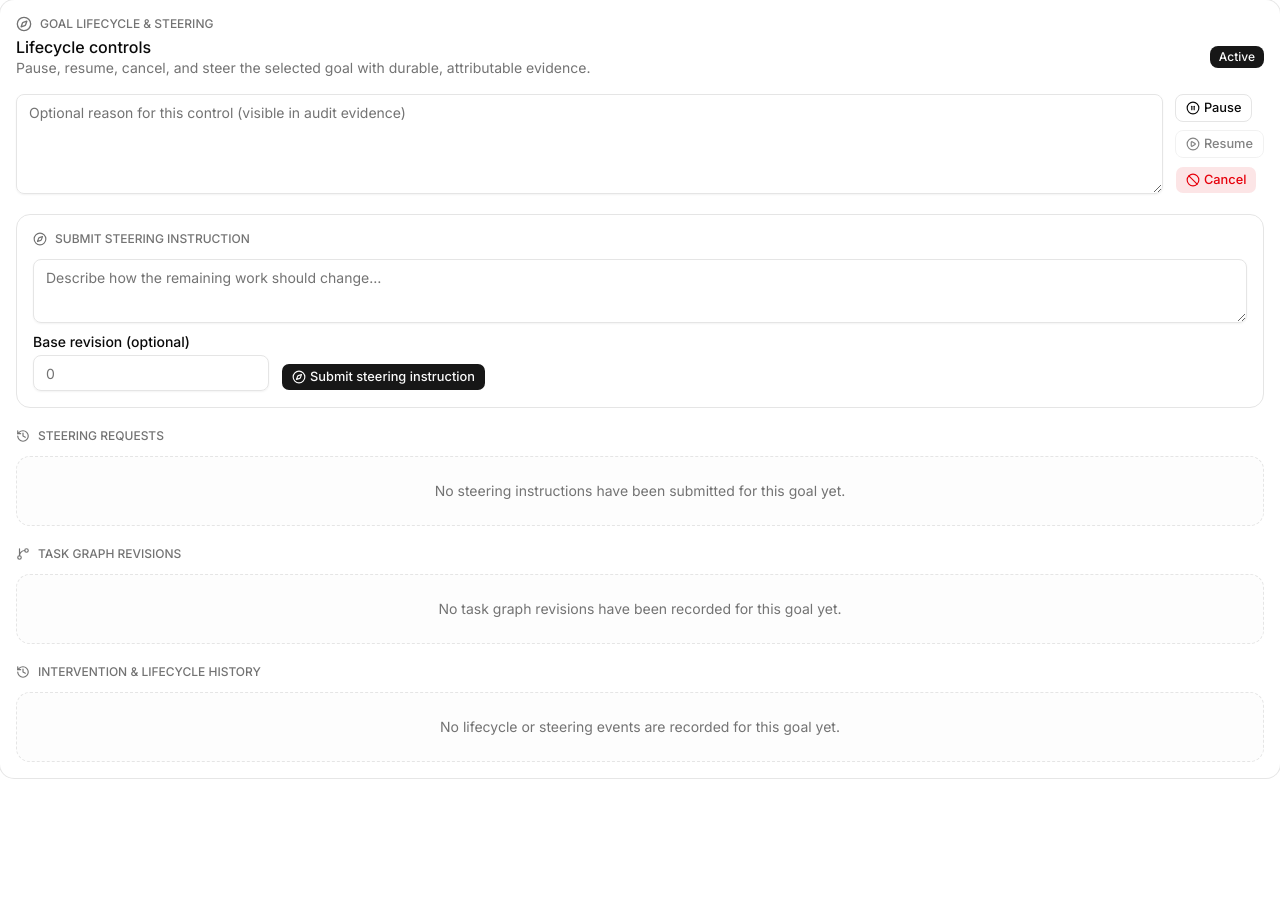
Test case: GoalLifecyclePanel › submits a steering instruction and lists it as requested
In the text box with placeholder "Describe how the remaining work should change…": (640, 291) x1=33 y1=259 x2=1247 y2=323, type "Add a review step before publishing"
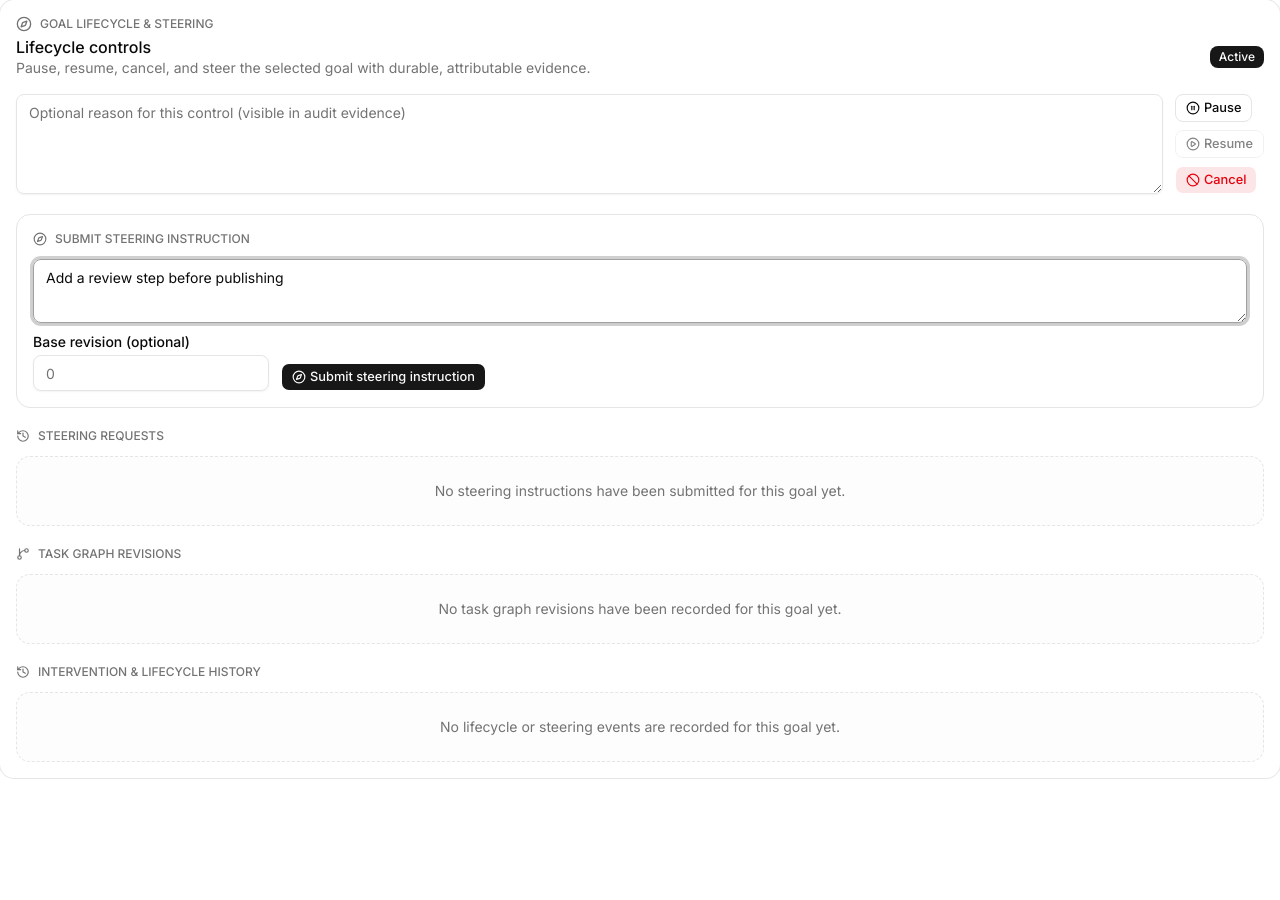
Click the button "Submit steering instruction": (383, 377) x1=281 y1=363 x2=486 y2=391
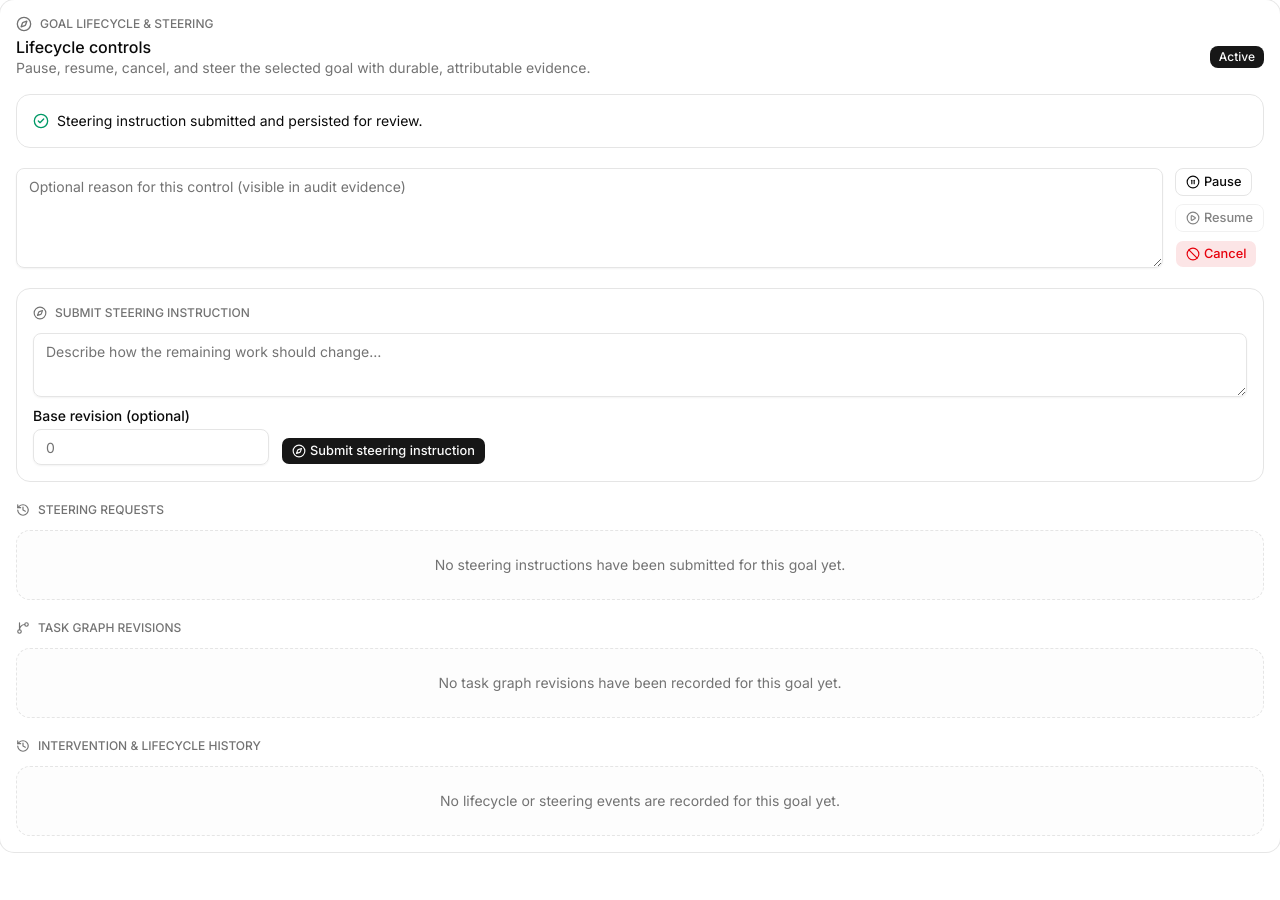
Expected: the text "Steering instruction submitted and persisted for review." is shown, x1=16 y1=94 x2=1264 y2=148
